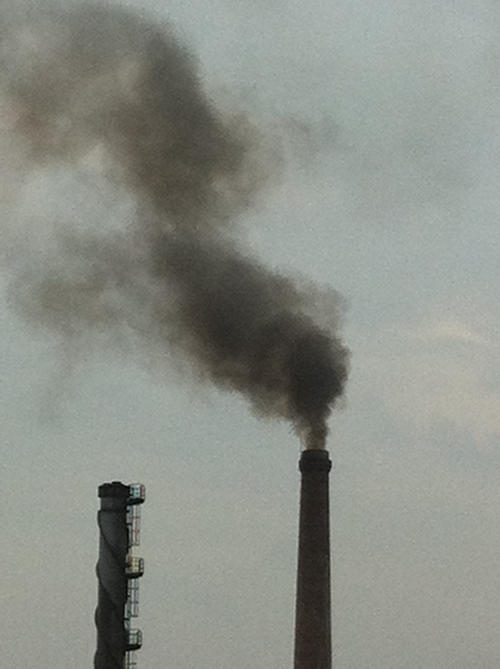smoke: (1, 1, 352, 447)
